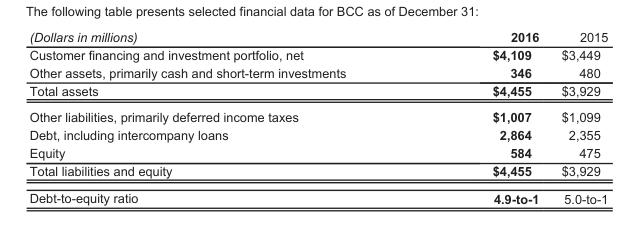table: (28, 29, 607, 205)
table column: (28, 29, 418, 205), (418, 29, 549, 205), (549, 29, 607, 205)
table column header: (28, 29, 607, 45)
table row: (28, 161, 607, 184), (28, 81, 607, 103), (28, 103, 607, 125), (28, 184, 607, 205), (28, 45, 607, 63), (28, 63, 607, 81), (28, 125, 607, 143), (28, 143, 607, 161), (28, 29, 607, 45)
